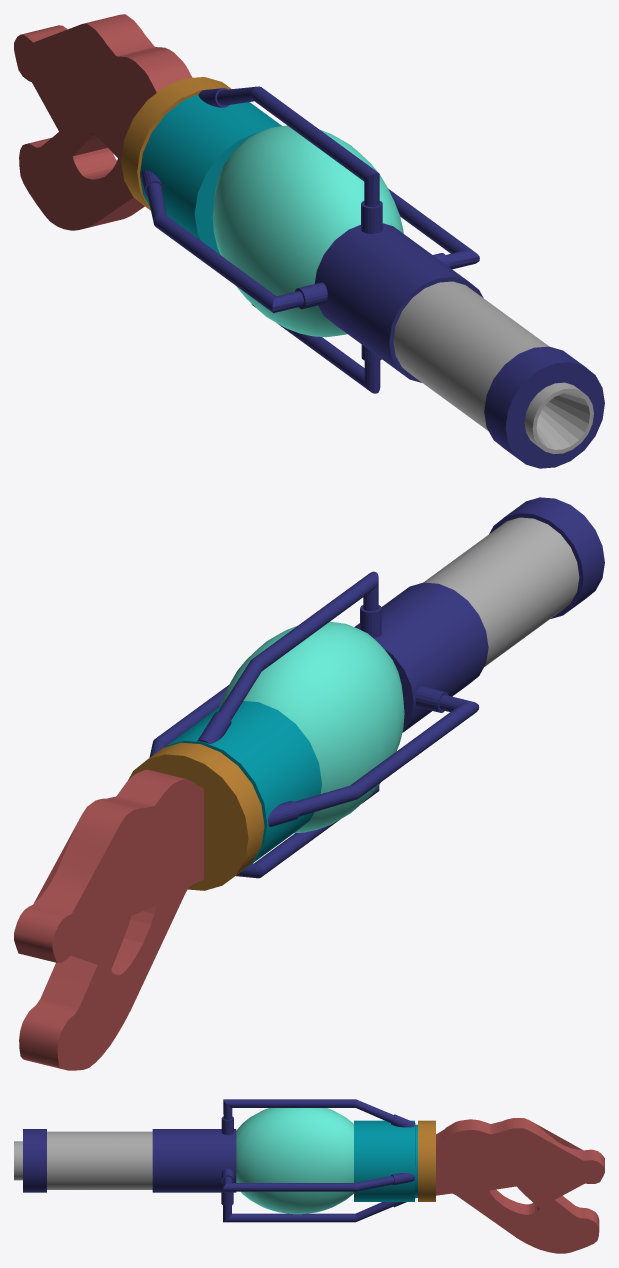
The model's file is SM_Rifle.fbx.
3 renders of one model, top to bottom at view 1: azimuth 30°, elevation 25°; view 2: azimuth 150°, elevation 25°; view 3: azimuth 270°, elevation 25°, orthographic. The views are drawn at different scales.
Parts seen in each view (by area): view 1: Stvol, pCube1, Sfera, pCylinder1, polySurface6, polySurface8, polySurface7, polySurface9; view 2: pCube1, Stvol, Sfera, pCylinder1, polySurface6, polySurface8, polySurface7, polySurface9; view 3: pCube1, Stvol, Sfera, pCylinder1, polySurface6, polySurface9, polySurface7.
Boxes of the visible parts, <box> form: Stvol: <box>315,223,604,468</box>; pCube1: <box>14,14,192,230</box>; Sfera: <box>212,125,403,337</box>; pCylinder1: <box>121,77,281,254</box>; polySurface6: <box>198,86,382,233</box>; polySurface8: <box>141,169,327,312</box>; polySurface7: <box>251,304,381,393</box>; polySurface9: <box>388,188,479,269</box>; pCube1: <box>14,769,203,1070</box>; Stvol: <box>354,497,604,732</box>; Sfera: <box>219,621,404,833</box>; pCylinder1: <box>128,701,321,890</box>; polySurface6: <box>197,571,381,743</box>; polySurface8: <box>268,686,479,826</box>; polySurface7: <box>236,785,379,878</box>; polySurface9: <box>149,685,228,757</box>; pCube1: <box>436,1118,604,1253</box>; Stvol: <box>14,1129,236,1192</box>; Sfera: <box>236,1108,353,1214</box>; pCylinder1: <box>354,1120,435,1201</box>; polySurface6: <box>221,1099,415,1134</box>; polySurface9: <box>221,1168,414,1191</box>; polySurface7: <box>221,1192,406,1222</box>.
Size of the model in its own units: 2.26 by 2.78 by 9.99.
